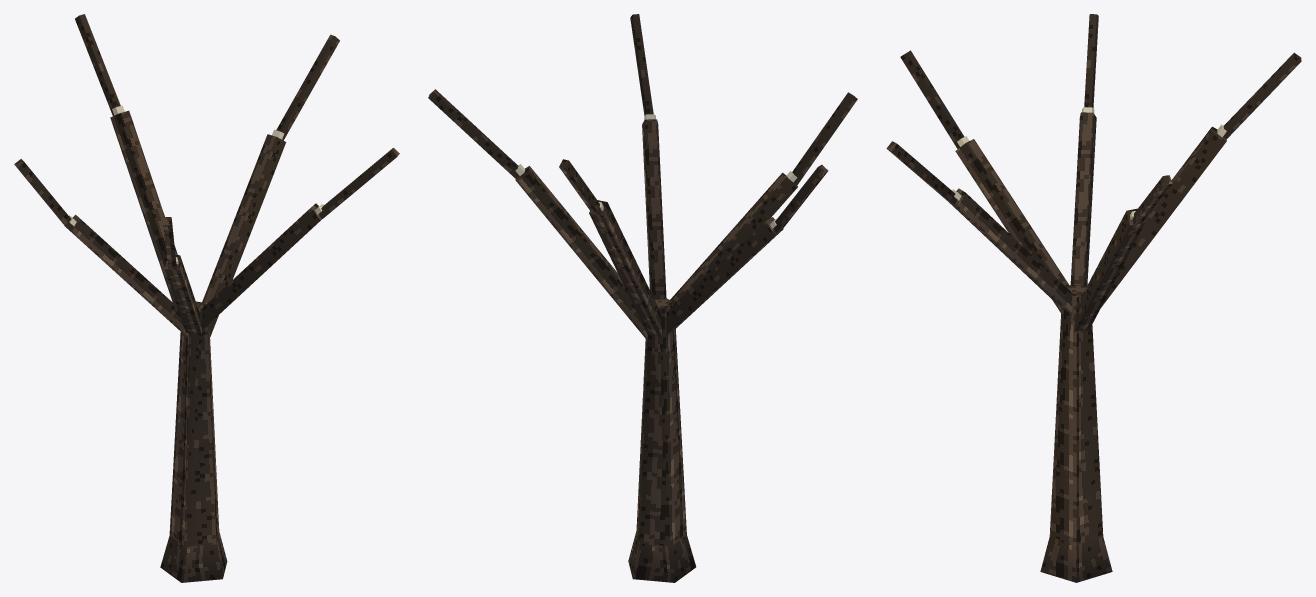
Rendered from mnat.dead_tree__snowy.glb.
The picture shows the model from 3 angles, left to right: view 1: azimuth 30°, elevation 25°; view 2: azimuth 150°, elevation 25°; view 3: azimuth 270°, elevation 25°; orthographic projection. The views are drawn at different scales.
Parts seen in each view (by area): view 1: kit_trunk; view 2: kit_trunk; view 3: kit_trunk.
Boxes of the visible parts, box(x1,y1,x2,y2) form: kit_trunk: box(14, 14, 399, 582); kit_trunk: box(428, 14, 857, 582); kit_trunk: box(886, 14, 1301, 582).
Bounding box in the file's own units: 4.64 × 5.96 × 4.42.
2 materials, 2 textured.
